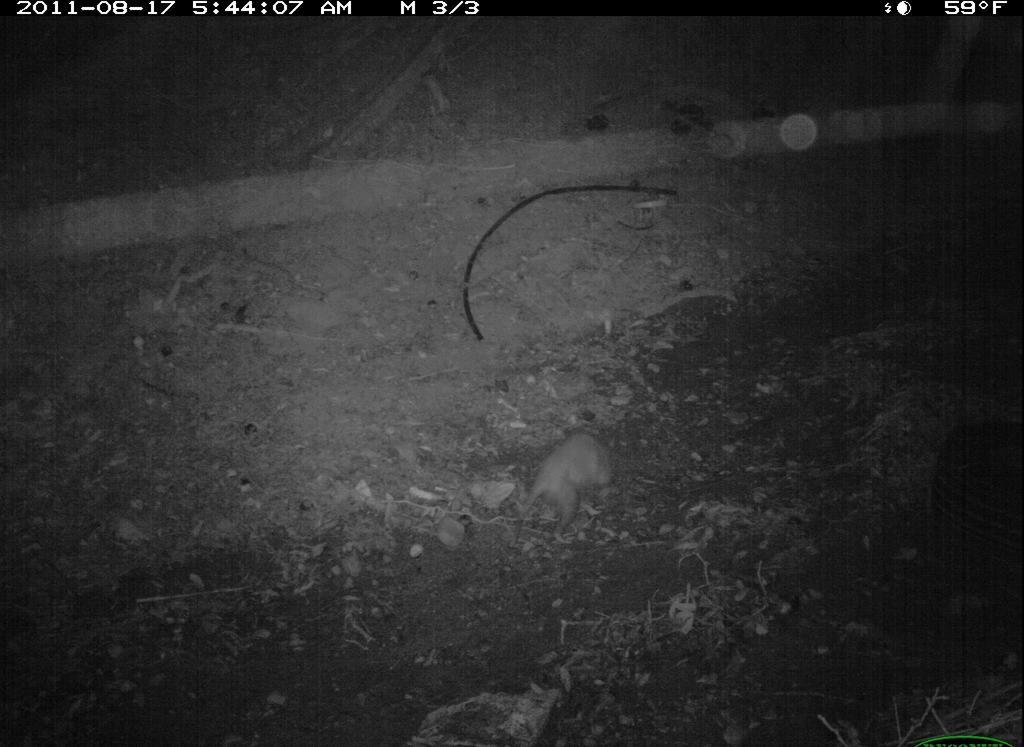opossum: (509, 423, 627, 550)
